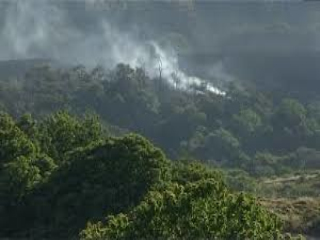smoke: (121, 37, 233, 100)
